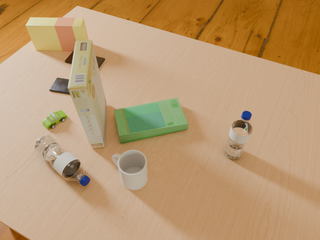book: (114, 98, 188, 144)
bottle: (34, 135, 90, 186), (224, 111, 253, 159)
box: (68, 40, 106, 148), (26, 18, 89, 52)
cup: (112, 150, 148, 190)
phone: (65, 51, 105, 67), (49, 78, 70, 94)
toy_car: (43, 110, 67, 129)
